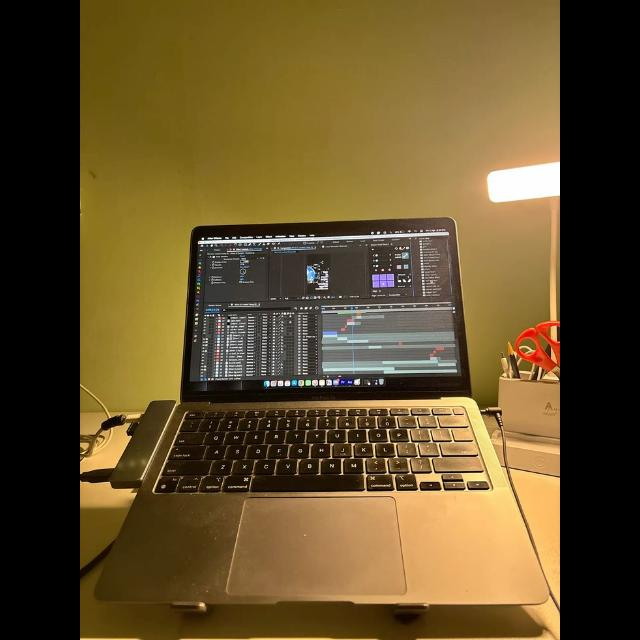laptop: (149, 214, 516, 604)
